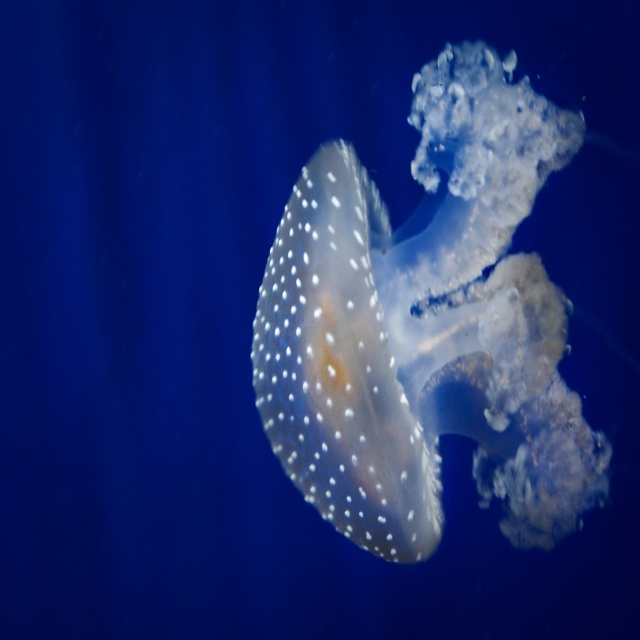Jellyfish: (248, 38, 611, 560)
